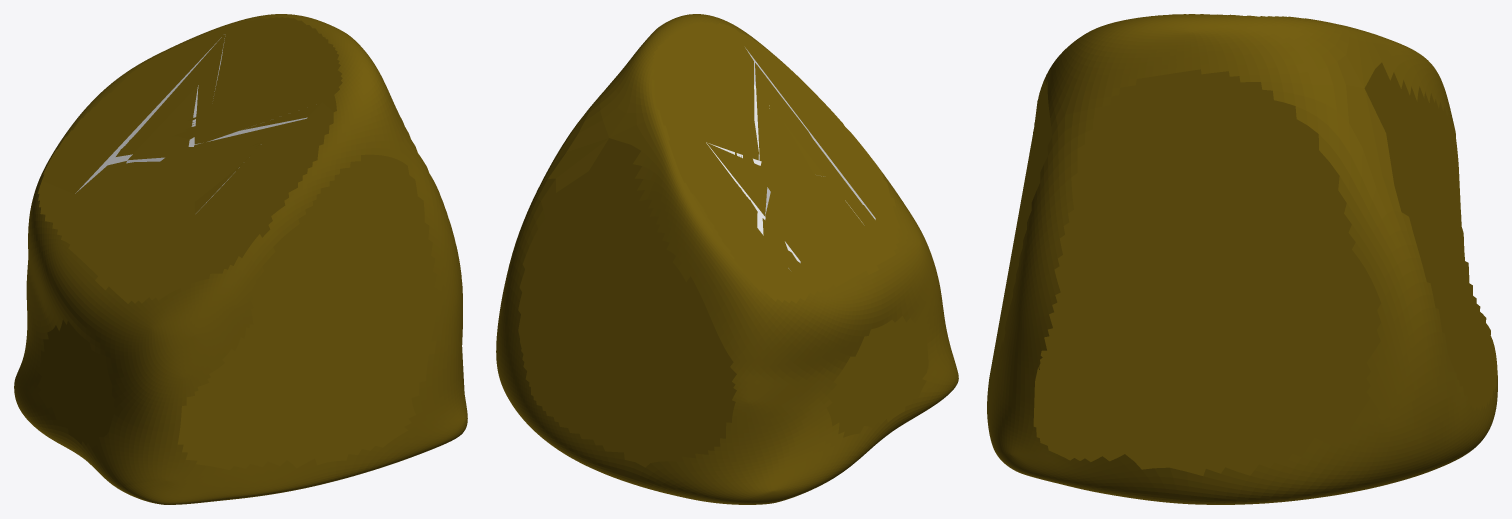
File: RunaMannaz.fbx
3 renders of one model, left to right at view 1: azimuth 30°, elevation 25°; view 2: azimuth 150°, elevation 25°; view 3: azimuth 270°, elevation 25°, orthographic. The views are drawn at different scales.
Visible parts, largest first — view 1: Cube; view 2: Cube; view 3: Cube.
Boxes of the visible parts, box(x1,y1,x2,y2) form: Cube: box(14, 14, 467, 504); Cube: box(496, 14, 958, 504); Cube: box(987, 14, 1497, 504).
Size of the model in its own units: 1.87 by 1.89 by 1.88.
